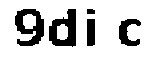9: (12, 5, 46, 50)
c: (116, 17, 142, 51)
d: (48, 6, 79, 51)
i: (85, 2, 98, 52)
